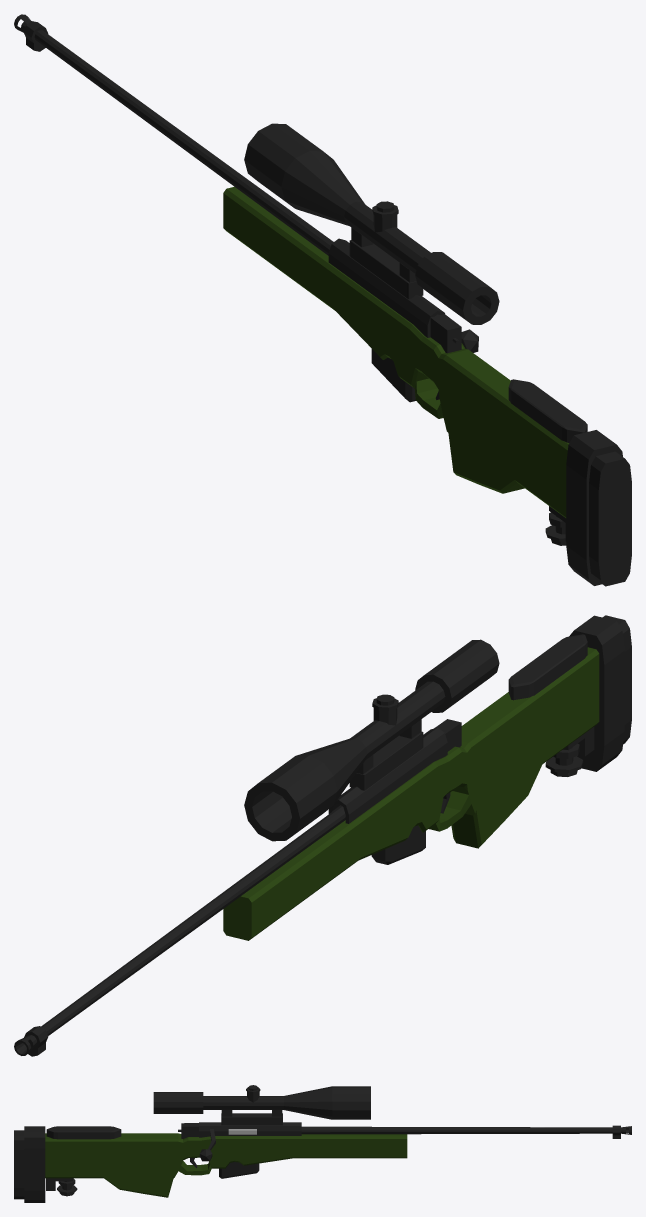
File: Sniper Rifle.glb
3 renders of one model, top to bottom at view 1: azimuth 30°, elevation 25°; view 2: azimuth 150°, elevation 25°; view 3: azimuth 270°, elevation 25°, orthographic. The views are drawn at different scales.
Parts seen in each view (by area): view 1: Sniper_02_Cube.001; view 2: Sniper_02_Cube.001; view 3: Sniper_02_Cube.001.
Part boxes in pixels (<box>): Sniper_02_Cube.001: <box>14,14,631,586</box>; Sniper_02_Cube.001: <box>14,615,631,1056</box>; Sniper_02_Cube.001: <box>14,1085,631,1202</box>.
Bounding box in the file's own units: 0.6759 × 1.84 × 9.11.
